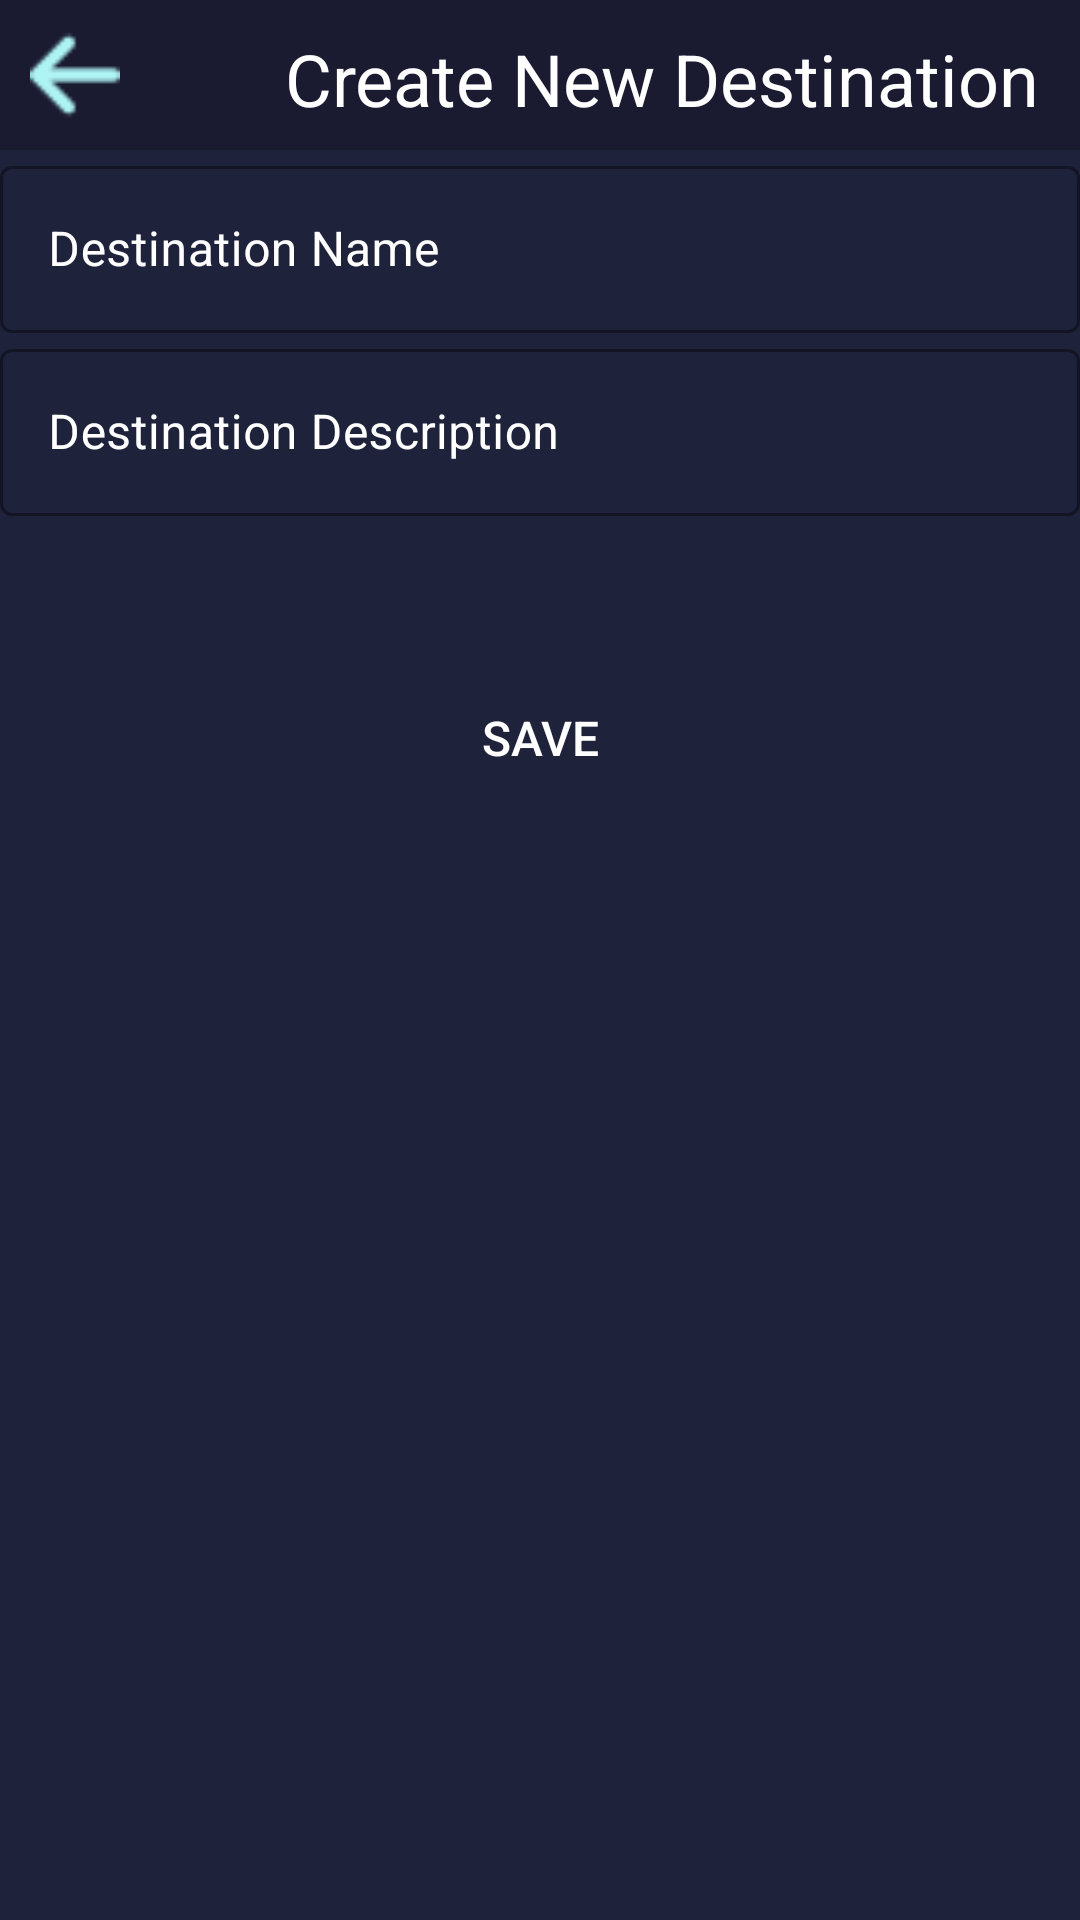

Screen size 1080px×1920px. Icon name, then its box in pixels as box(x1, y1, x2, y2):
back: box(30, 34, 120, 116)
